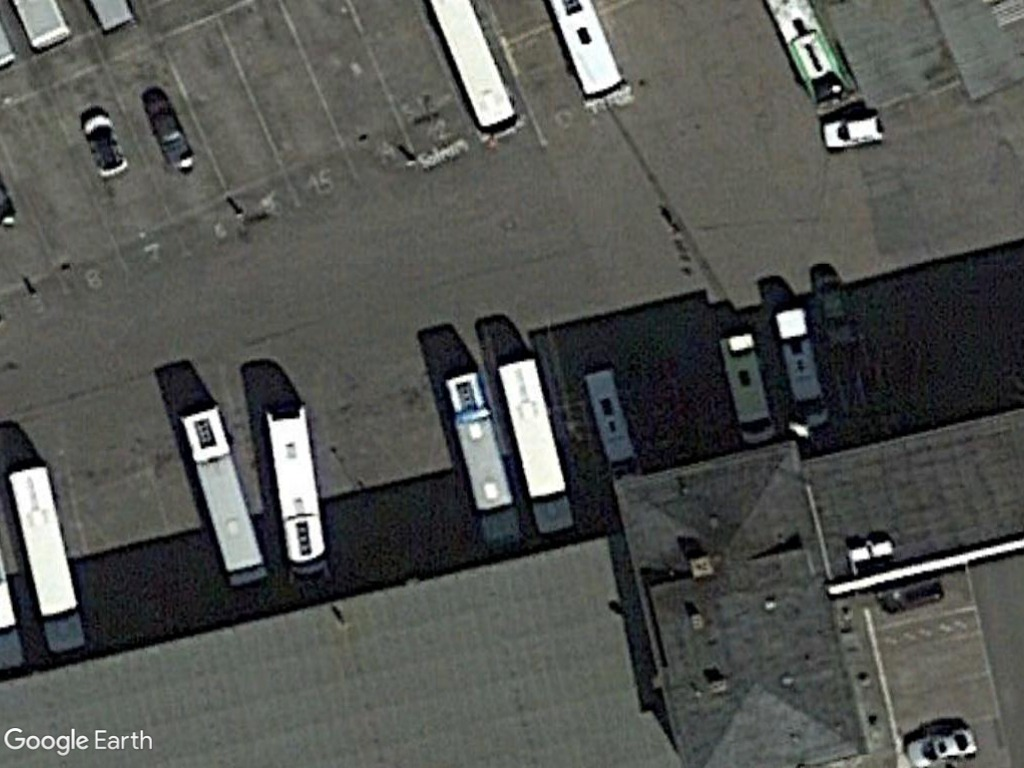bus: (176, 403, 271, 592), (5, 460, 92, 658), (440, 366, 526, 550), (493, 356, 577, 537), (259, 401, 334, 590)
car: (904, 727, 983, 768), (817, 113, 888, 154)
van: (770, 307, 832, 435), (717, 329, 776, 444)
